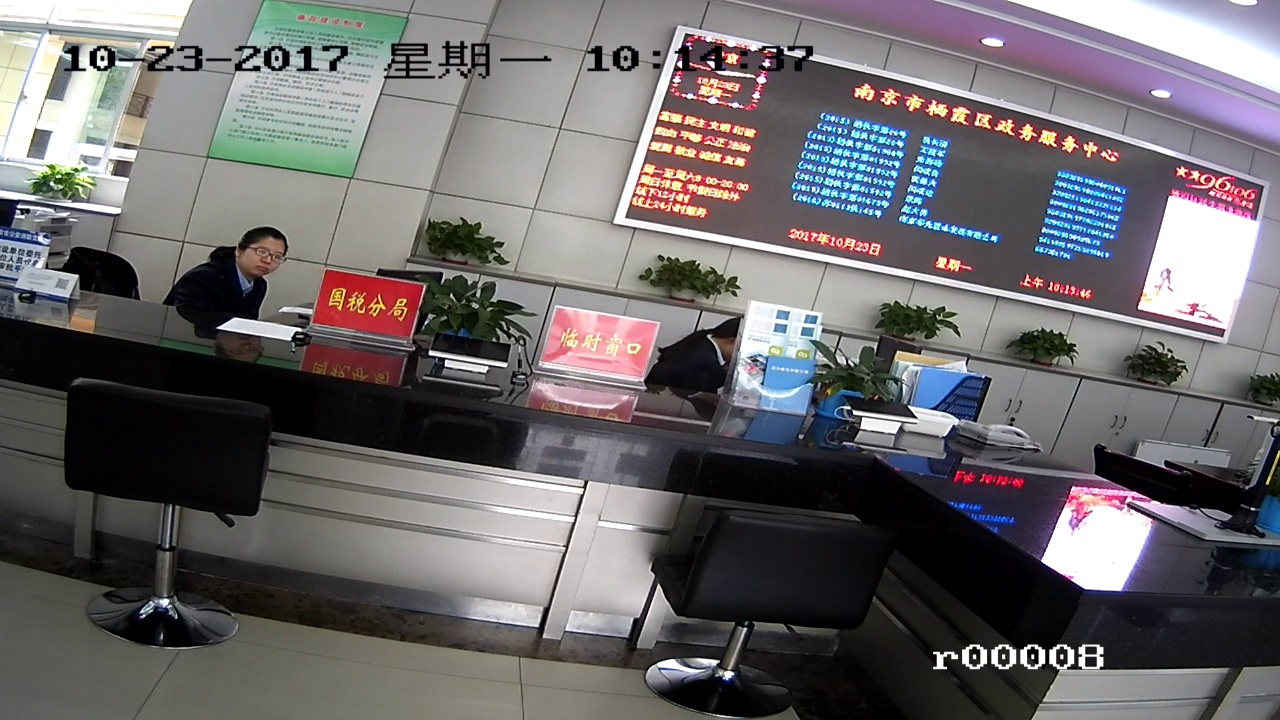billboard: (244, 1, 362, 171)
chair: (55, 375, 288, 652), (664, 512, 885, 709)
monitor: (673, 39, 1086, 267)
person: (219, 217, 293, 292), (672, 313, 750, 379)
pot: (440, 287, 516, 341), (656, 258, 727, 301), (1132, 347, 1195, 393), (885, 302, 937, 348), (440, 223, 498, 259), (1016, 328, 1072, 365)
